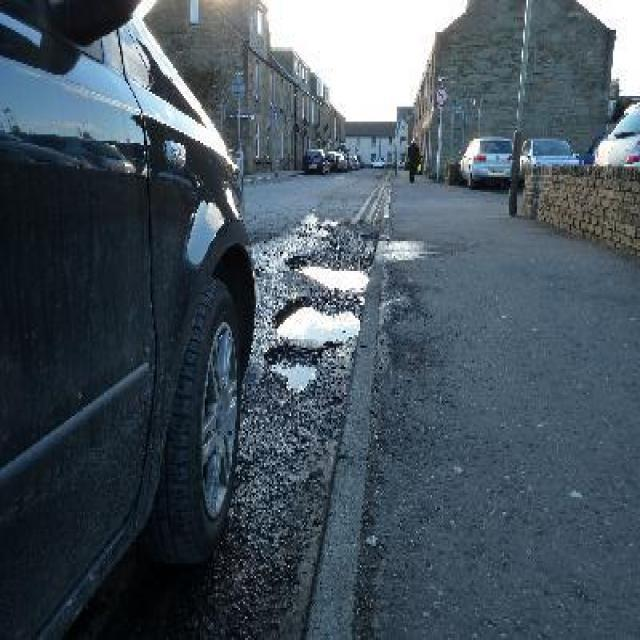Pothole: (275, 297, 363, 344), (286, 250, 373, 297), (266, 346, 324, 393)
